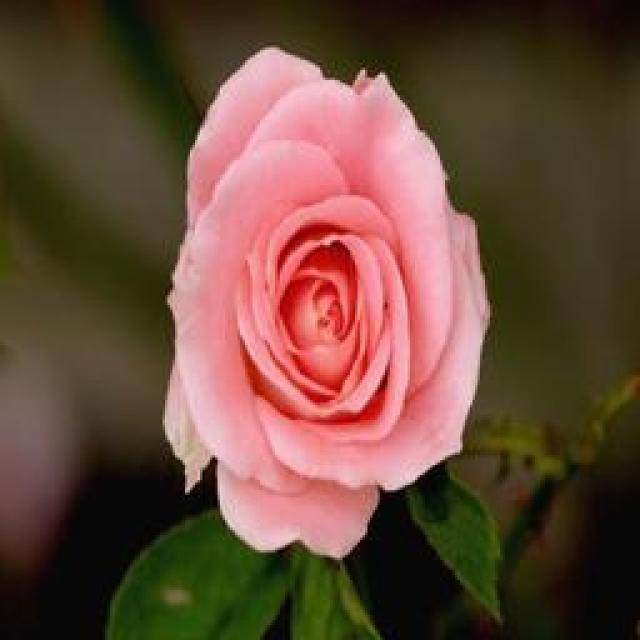rose: (127, 44, 534, 568)
